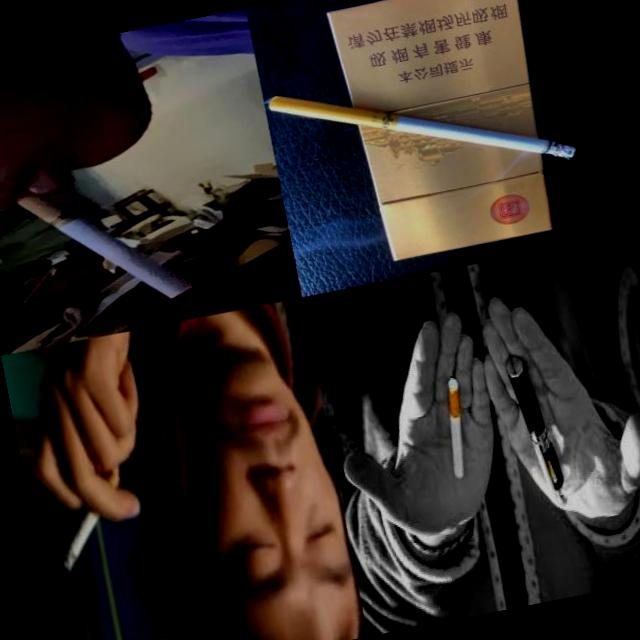smoke: (267, 42, 578, 214), (15, 166, 197, 327), (46, 471, 132, 575), (437, 376, 478, 482)
